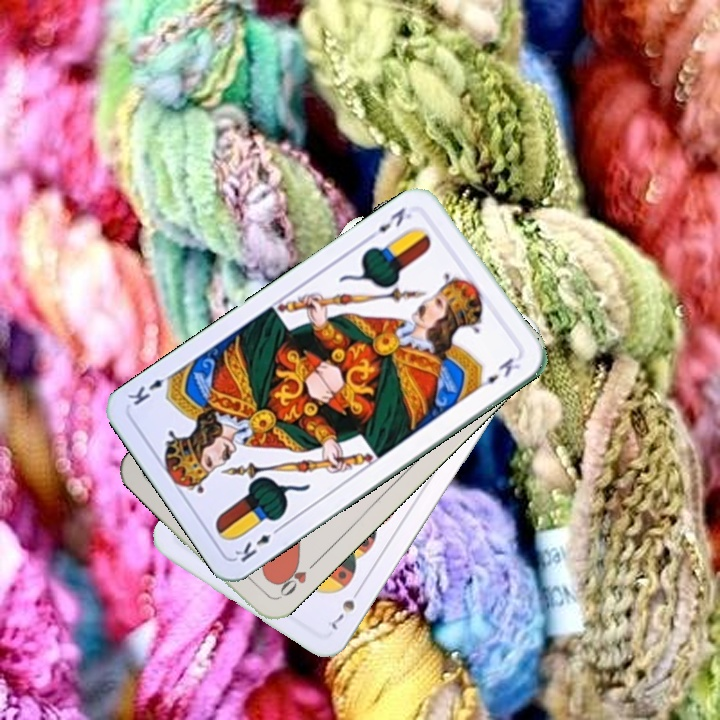EK: (230, 522, 284, 565), (364, 202, 414, 243)
HO: (271, 557, 320, 602)
S7: (327, 583, 365, 633)
